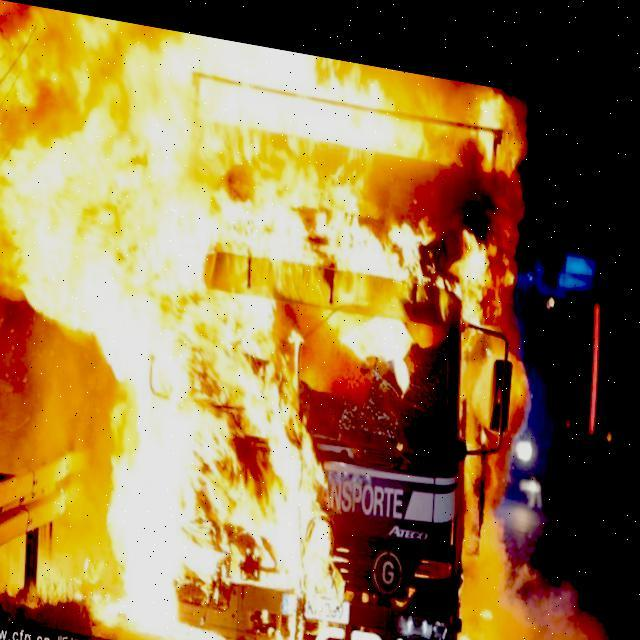Fire: (0, 0, 552, 639)
